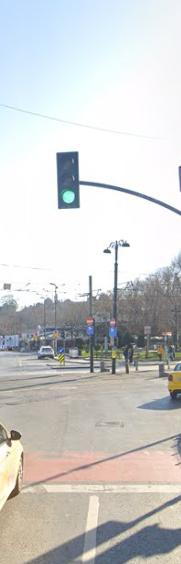greenlight: (57, 153, 80, 208)
